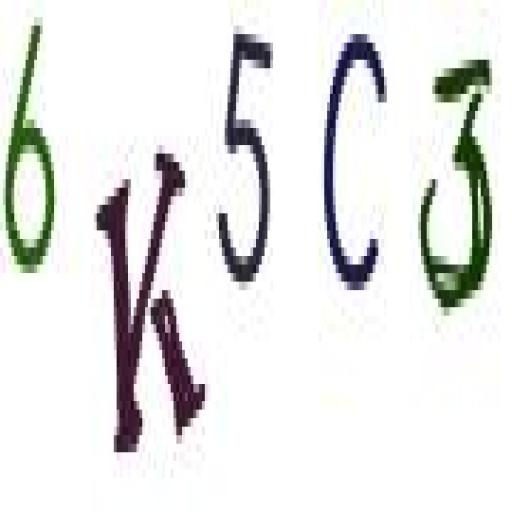3: (419, 32, 505, 328)
5: (209, 10, 278, 313)
6: (1, 6, 63, 289)
C: (323, 11, 397, 315)
K: (91, 130, 209, 468)
